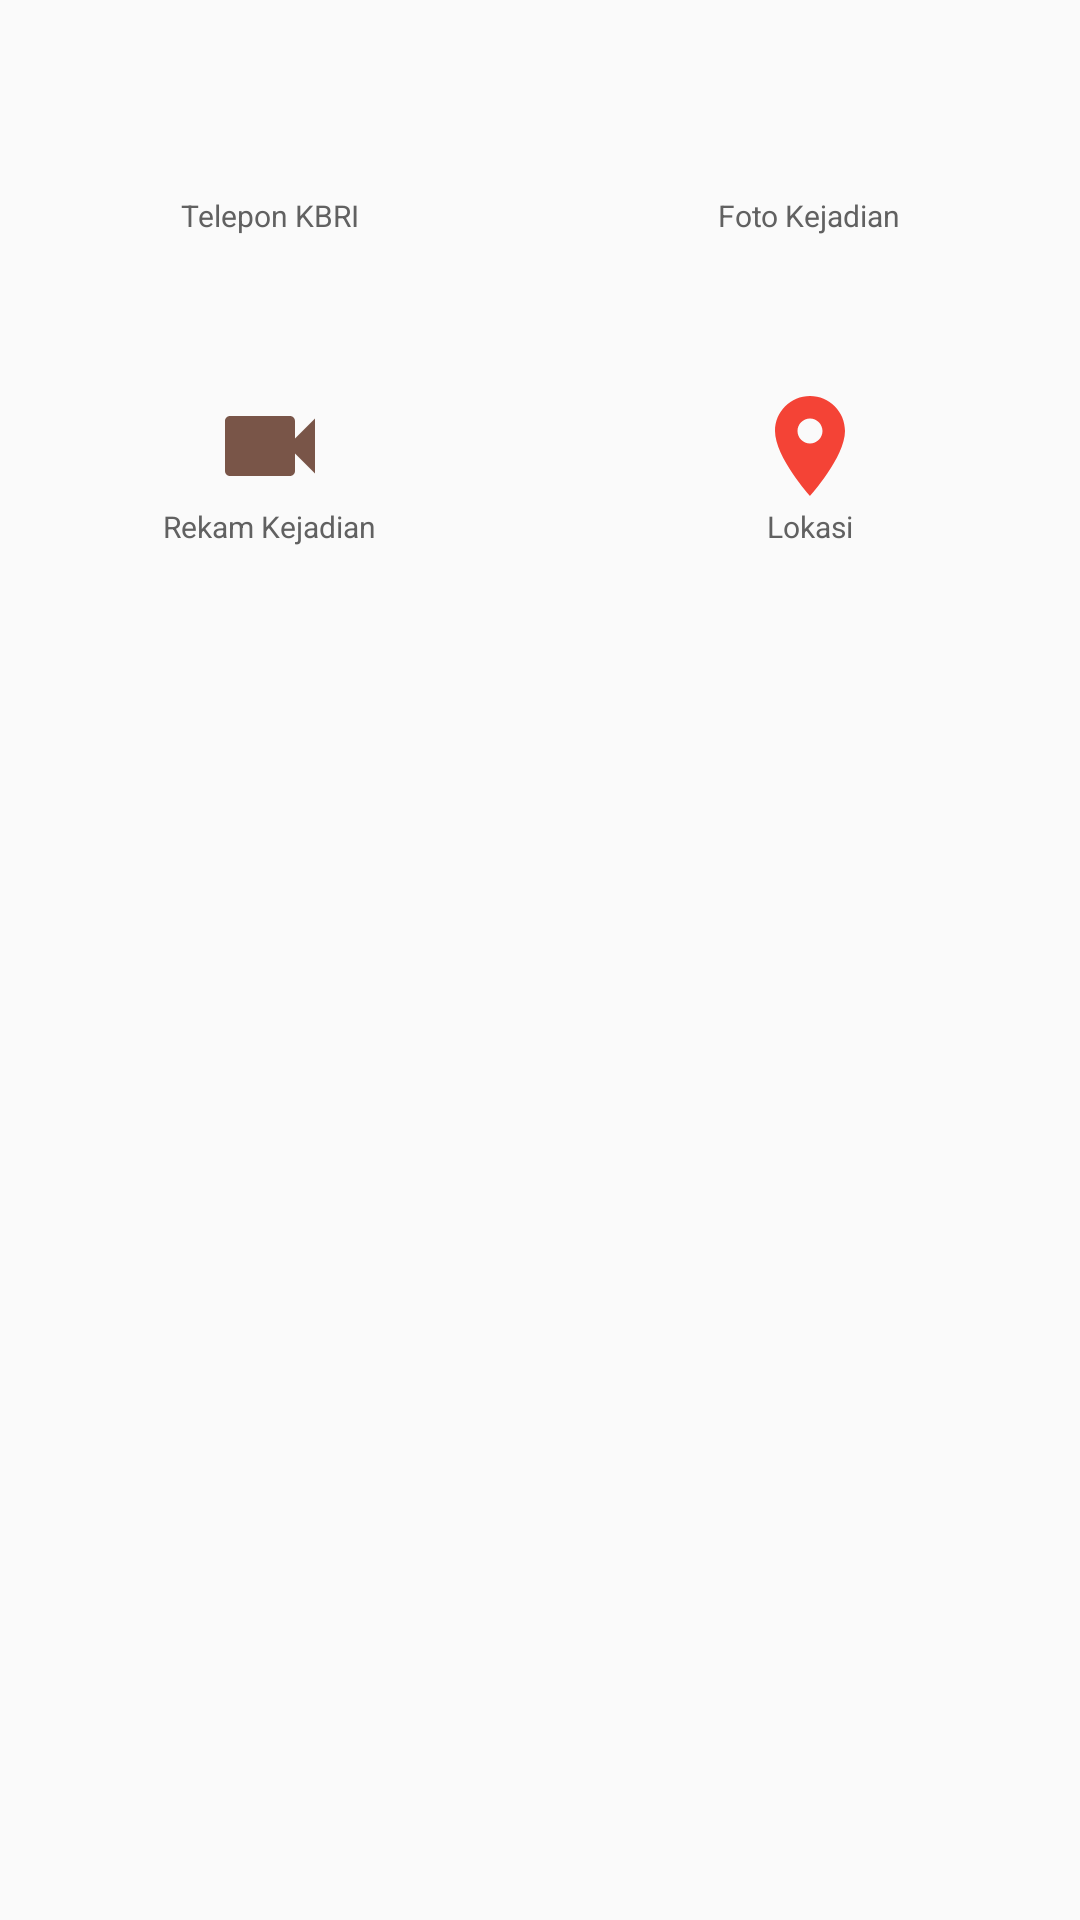

Where icons sit on this 1080 × 1920 app screen, as (x1, y1, x2, y2):
videocam: (225, 416, 315, 476)
